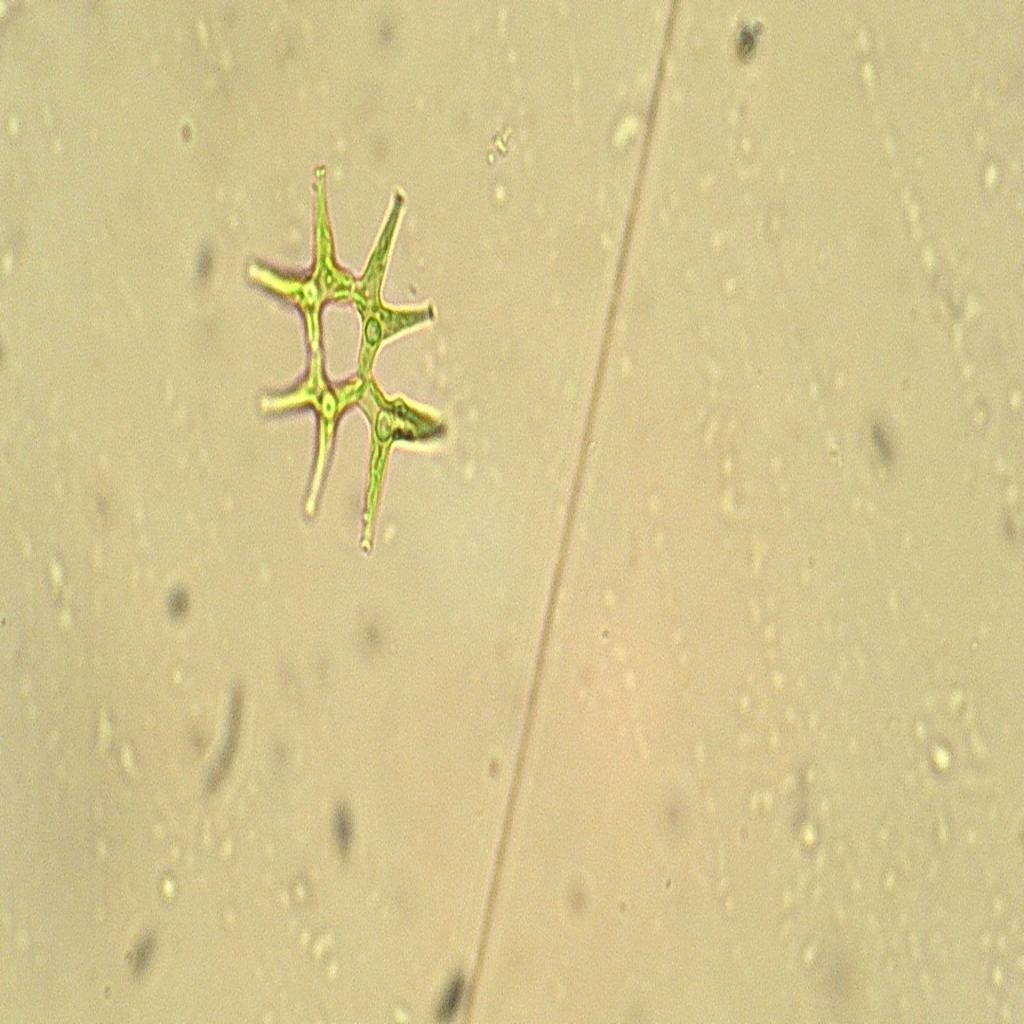Pediastrum_75FI: (230, 146, 467, 588)
